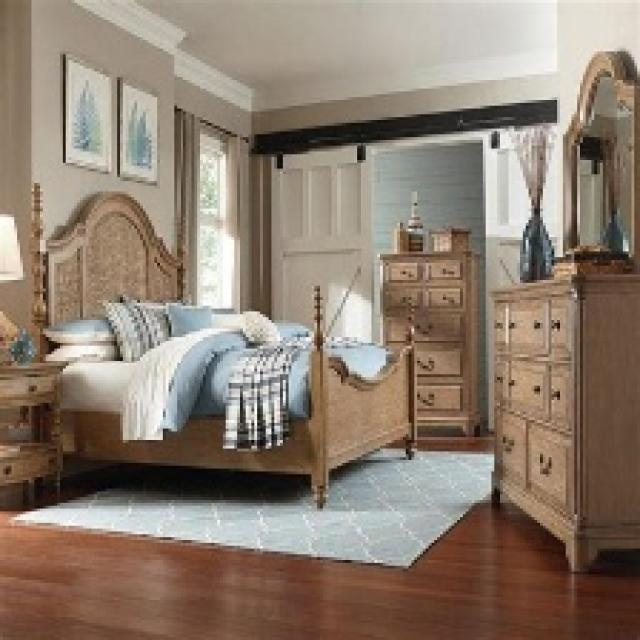Bed: (26, 180, 417, 509)
